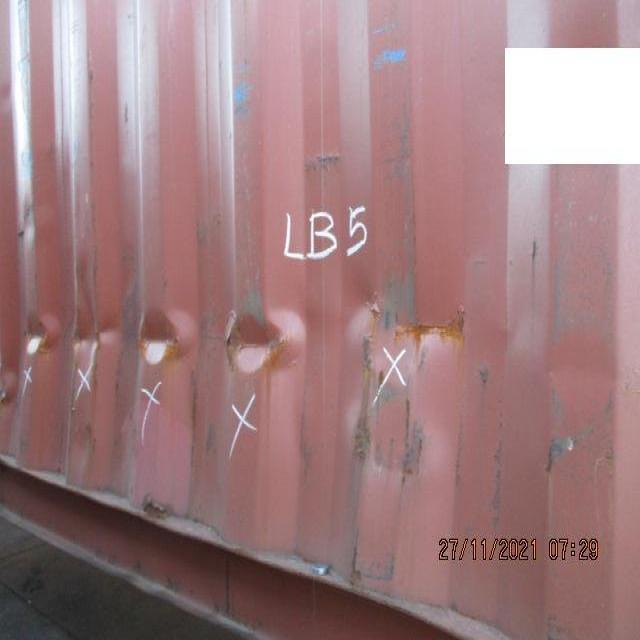dent: (1, 246, 512, 529)
